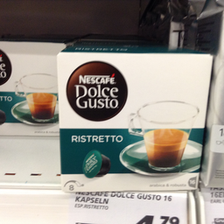coffee: (56, 47, 213, 192)
